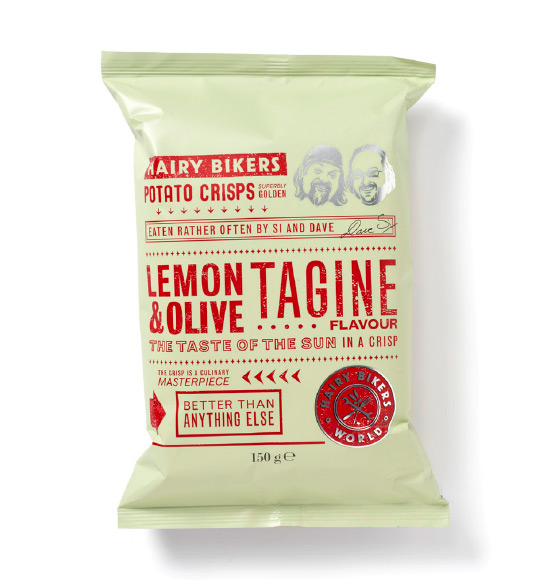Snack: (95, 44, 462, 536)
